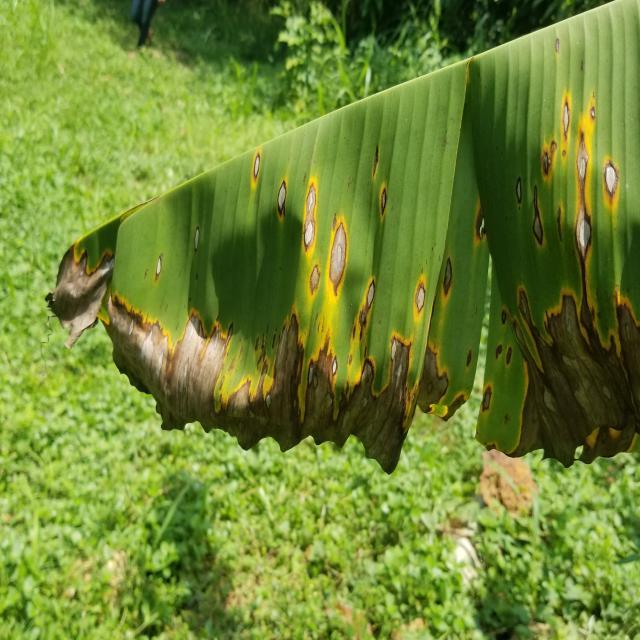Early_rust: (36, 47, 640, 472)
